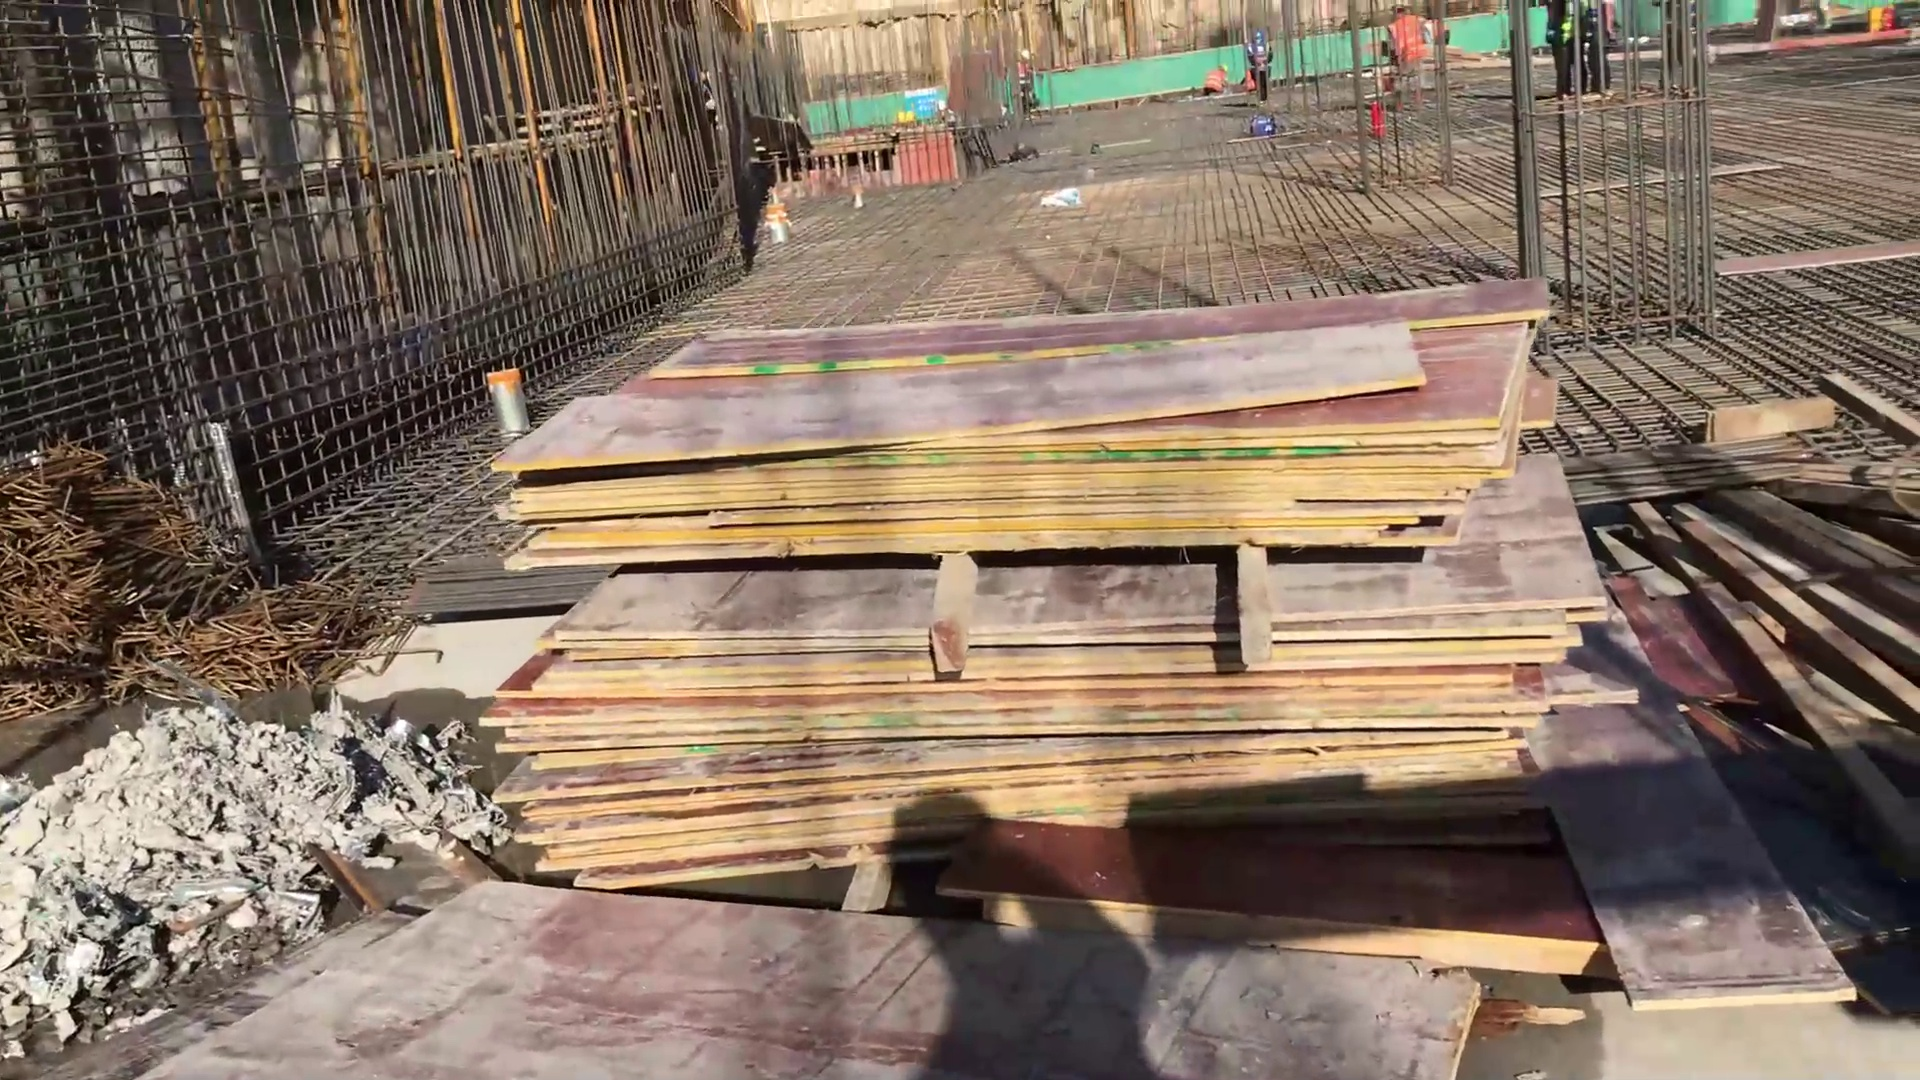board: (442, 265, 1681, 936)
person: (1201, 62, 1229, 95)
